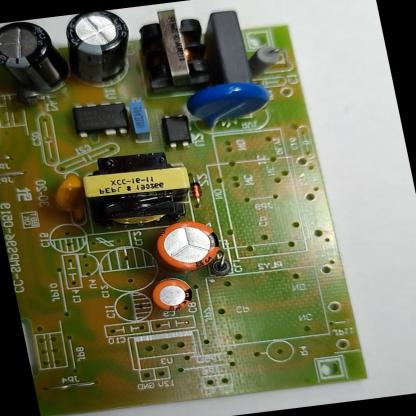Cap1: (149, 215, 227, 276)
Cap2: (146, 275, 198, 316)
Cap3: (59, 8, 142, 88)
Cap4: (0, 16, 74, 101)
MOSFET: (66, 96, 134, 143)
Mov: (183, 77, 276, 132)
Resistor: (246, 42, 286, 77)
Transformer: (74, 146, 197, 233), (128, 3, 218, 98)
